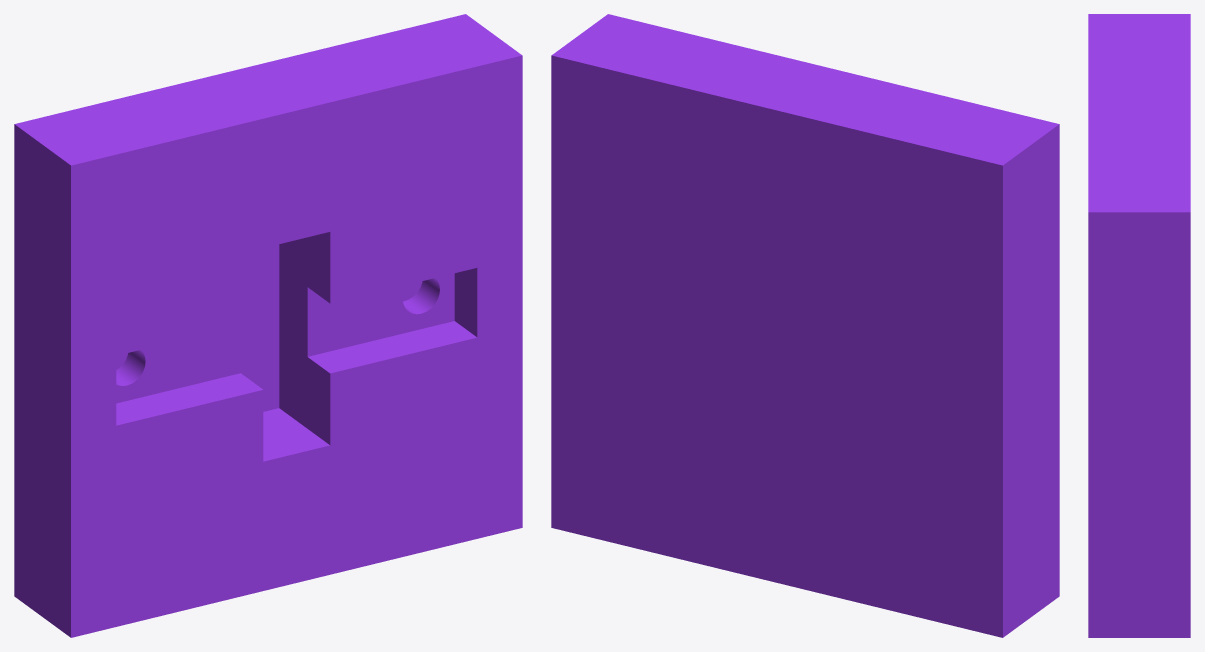
3 renders of one model, left to right at view 1: azimuth 30°, elevation 25°; view 2: azimuth 150°, elevation 25°; view 3: azimuth 270°, elevation 25°, orthographic. The views are drawn at different scales.
Visible parts, largest first — view 1: Body1; view 2: Body1; view 3: Body1.
Boxes of the visible parts, bbox=[...] form: Body1: bbox=[14, 14, 522, 637]; Body1: bbox=[551, 14, 1059, 637]; Body1: bbox=[1088, 14, 1190, 637].
Bounding box in the file's own units: 16.1 × 16.1 × 3.5.
